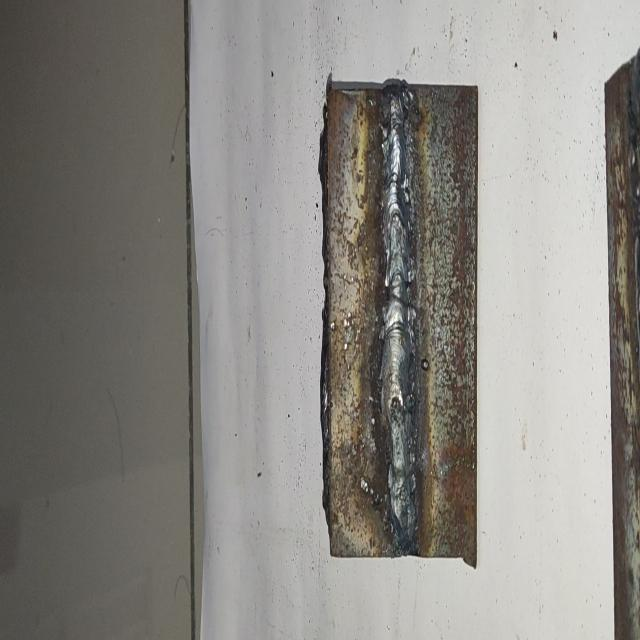Welding Line: (381, 94, 421, 550)
Workpiece: (317, 71, 488, 574)
